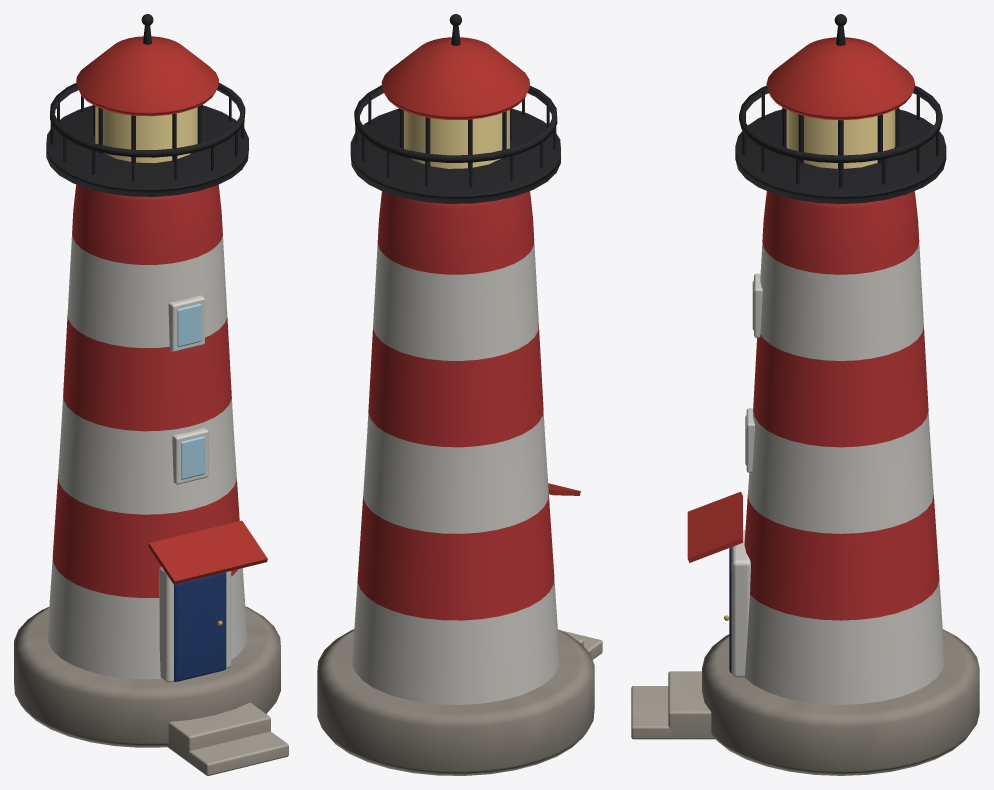
File: bld_lighthouse.glb
3 renders of one model, left to right at view 1: azimuth 30°, elevation 25°; view 2: azimuth 150°, elevation 25°; view 3: azimuth 270°, elevation 25°, orthographic. The views are drawn at different scales.
Parts seen in each view (by area): view 1: bld_lighthouse_main, bld_lighthouse_glass; view 2: bld_lighthouse_main, bld_lighthouse_glass; view 3: bld_lighthouse_main, bld_lighthouse_glass.
Boxes of the visible parts, x1,y1,x2,y2 form: bld_lighthouse_main: (14,14,288,775); bld_lighthouse_glass: (95,106,204,479); bld_lighthouse_main: (317,14,602,775); bld_lighthouse_glass: (404,110,509,168); bld_lighthouse_main: (631,14,979,775); bld_lighthouse_glass: (745,110,895,465).
Bounding box in the file's own units: 2.24 × 6.27 × 2.81.
